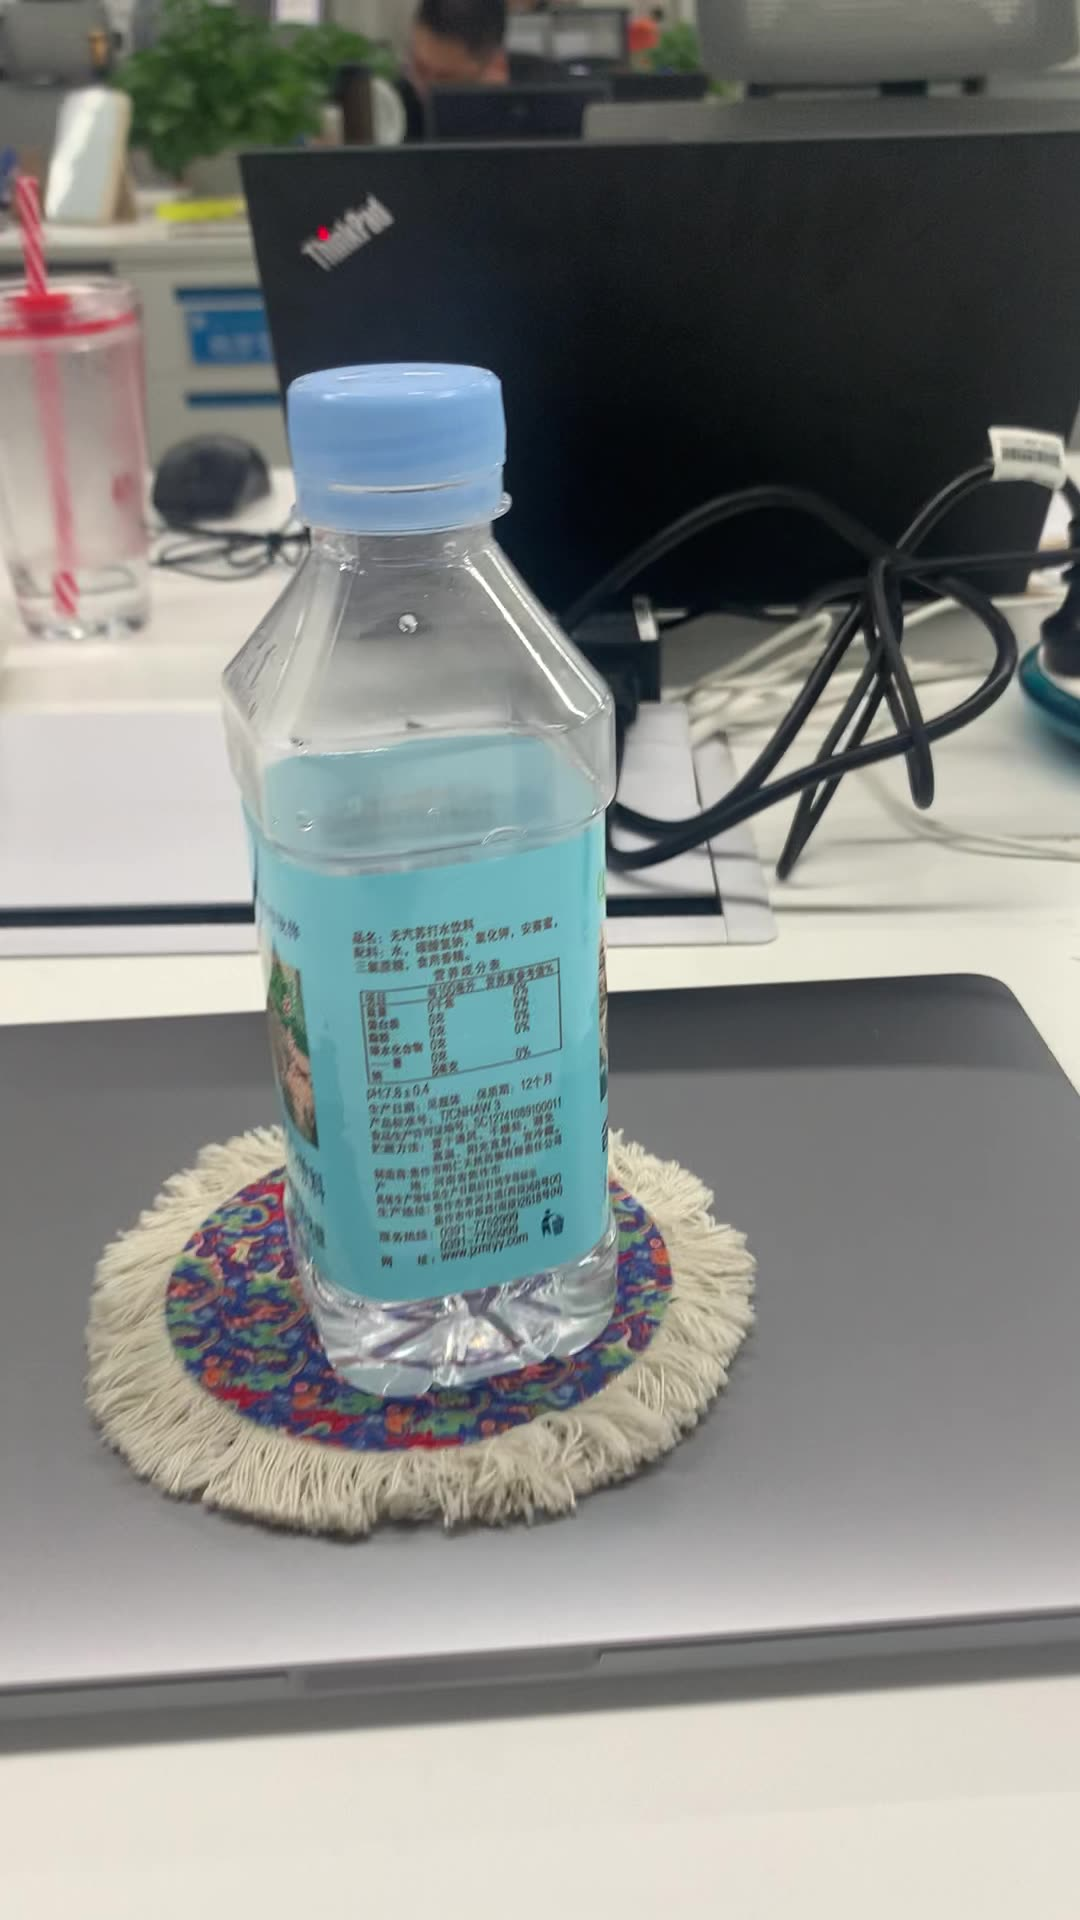水瓶: (216, 348, 644, 1415)
